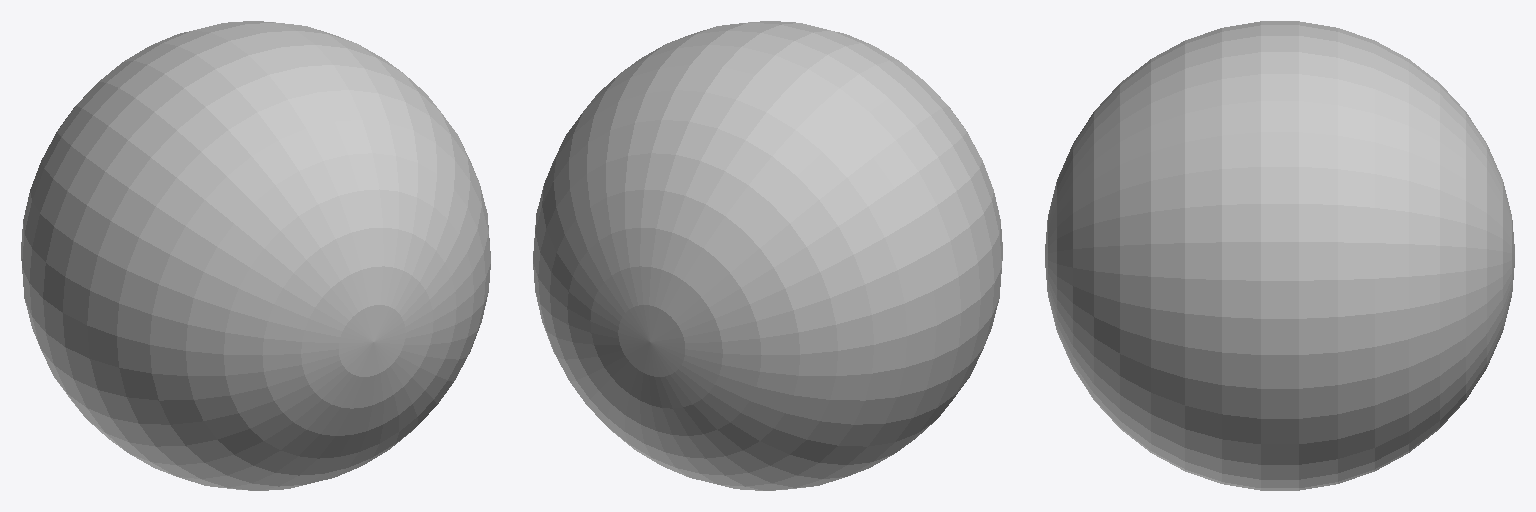
File: ovario_interno.obj
3 renders of one model, left to right at view 1: azimuth 30°, elevation 25°; view 2: azimuth 150°, elevation 25°; view 3: azimuth 270°, elevation 25°, orthographic.
Visible parts, largest first — view 1: MeshBody1; view 2: MeshBody1; view 3: MeshBody1.
Boxes of the visible parts, box(x1,y1,x2,y2) form: MeshBody1: box(21, 21, 490, 490); MeshBody1: box(533, 21, 1002, 490); MeshBody1: box(1045, 21, 1514, 490).
Bounding box in the file's own units: 1.49 × 1.49 × 1.5.